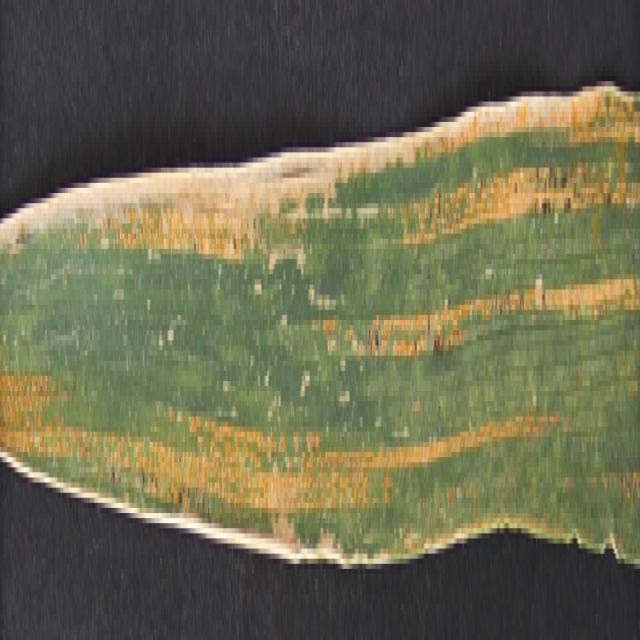leaf rust: (1, 142, 638, 518)
